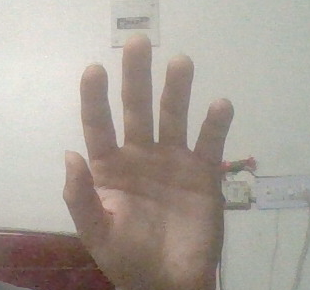move: (43, 25, 249, 283)
